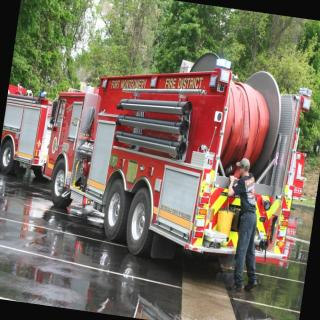Fire_truck: (31, 30, 320, 278), (0, 81, 58, 181)
